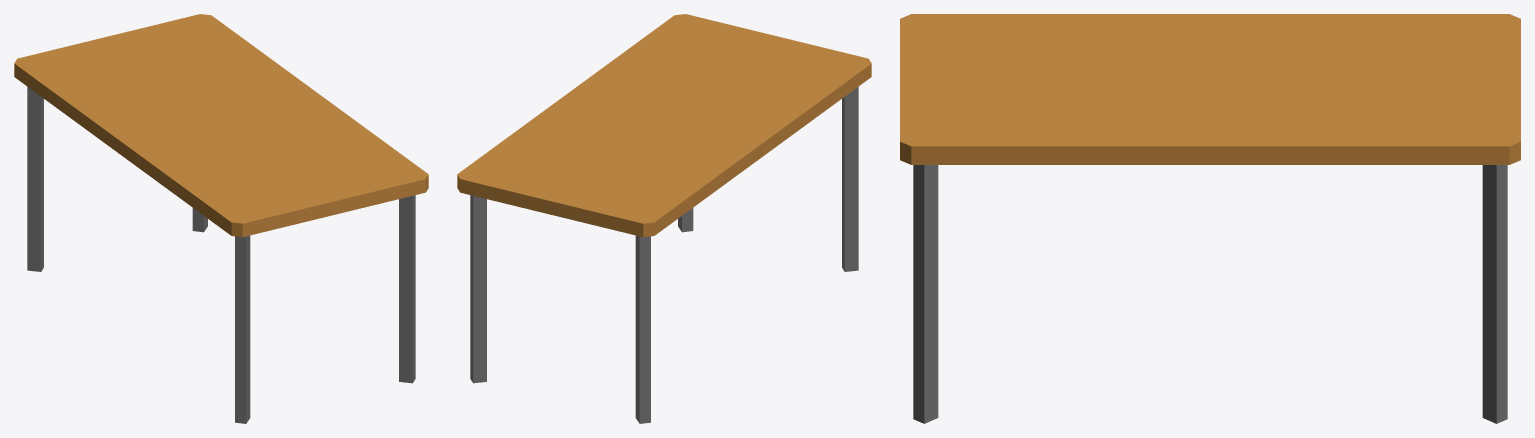
Rendered from Table_Wood.fbx.
The picture shows the model from 3 angles, left to right: view 1: azimuth 30°, elevation 25°; view 2: azimuth 150°, elevation 25°; view 3: azimuth 270°, elevation 25°; orthographic projection. The views are drawn at different scales.
Parts seen in each view (by area): view 1: Table_Wood; view 2: Table_Wood; view 3: Table_Wood.
Part boxes in pixels (bbox=[...]): Table_Wood: bbox=[14, 14, 428, 423]; Table_Wood: bbox=[457, 14, 871, 423]; Table_Wood: bbox=[900, 14, 1520, 423].
Size of the model in its own units: 953 by 950 by 1888.
